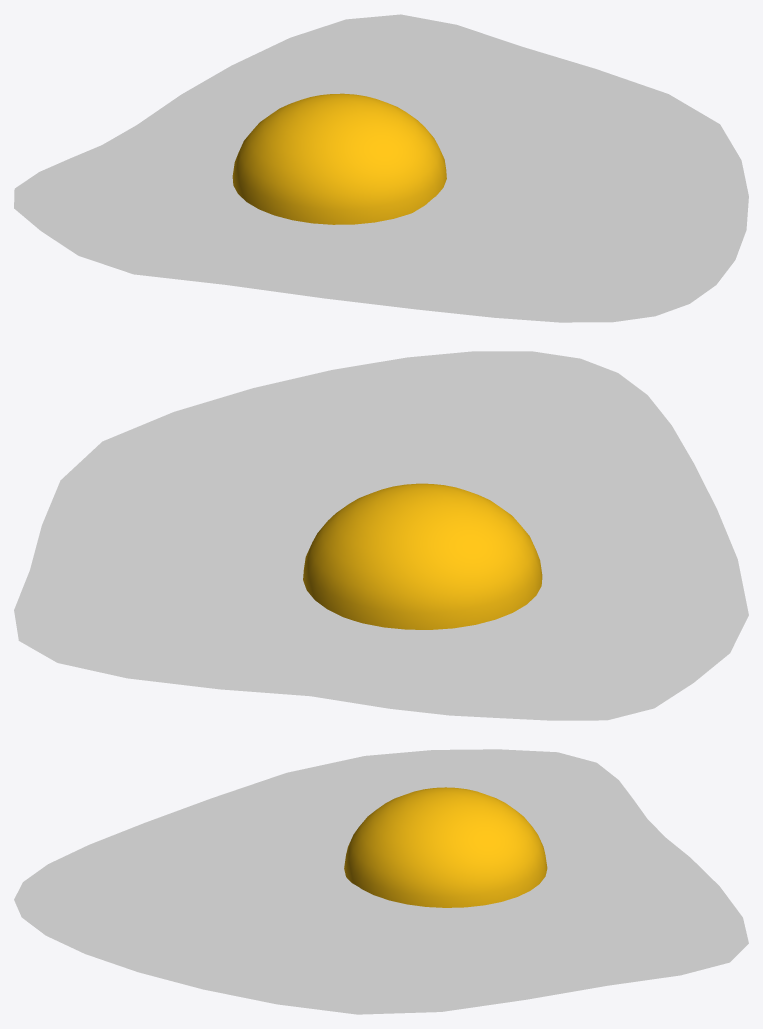
File: fried egg.fbx
The picture shows the model from 3 angles, top to bottom: view 1: azimuth 30°, elevation 25°; view 2: azimuth 150°, elevation 25°; view 3: azimuth 270°, elevation 25°; orthographic projection. The views are drawn at different scales.
Visible parts, largest first — view 1: Circle, Sphere; view 2: Circle, Sphere; view 3: Circle, Sphere.
Boxes of the visible parts, <box> form: Circle: <box>14,14,748,322</box>; Sphere: <box>232,93,446,224</box>; Circle: <box>14,351,748,720</box>; Sphere: <box>303,483,542,629</box>; Circle: <box>14,749,748,1014</box>; Sphere: <box>344,787,547,907</box>.
Size of the model in its own units: 0.3566 by 0.0476 by 0.3975.
